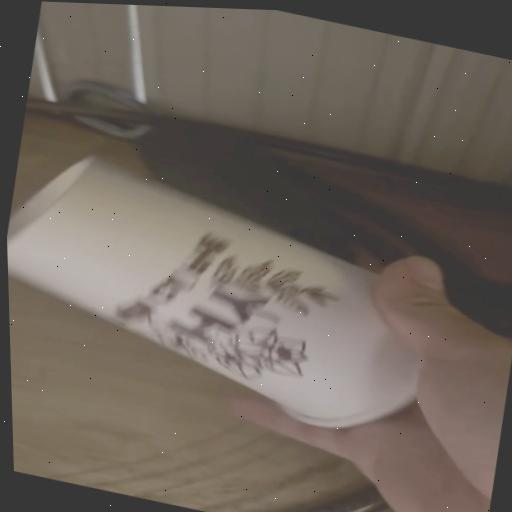Ly_giay: (7, 159, 418, 426)
